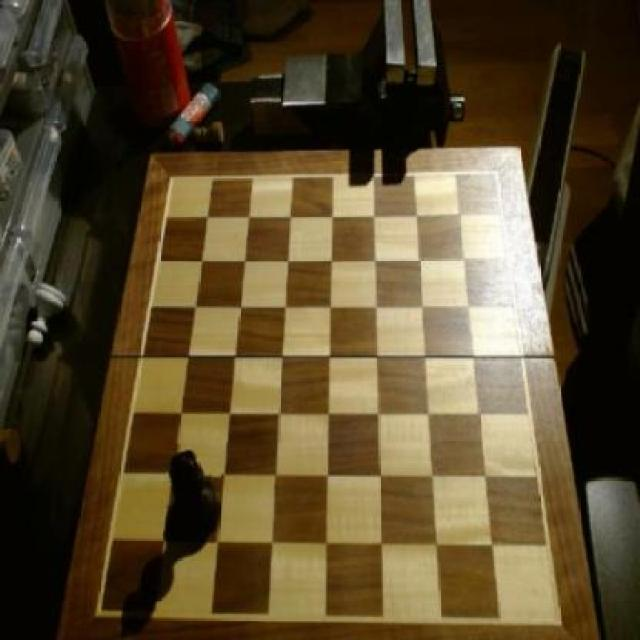black-pawn: (164, 443, 220, 542)
